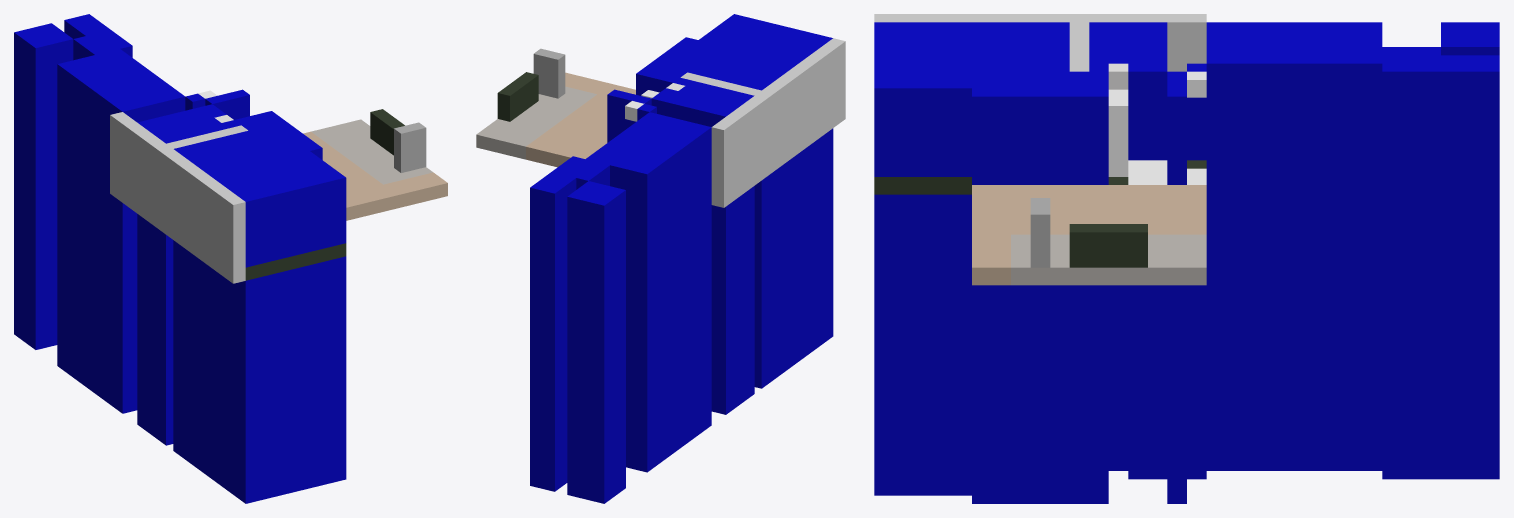
3 views of the same model, side by side, from view 1: azimuth 30°, elevation 25°; view 2: azimuth 150°, elevation 25°; view 3: azimuth 270°, elevation 25° (orthographic). The views are drawn at different scales.
Visible parts, largest first — view 1: imagetostl_mesh14, imagetostl_mesh2, imagetostl_mesh4, imagetostl_mesh1, imagetostl_mesh3, imagetostl_mesh41; view 2: imagetostl_mesh14, imagetostl_mesh2, imagetostl_mesh4, imagetostl_mesh1, imagetostl_mesh3, imagetostl_mesh41; view 3: imagetostl_mesh14, imagetostl_mesh4, imagetostl_mesh1, imagetostl_mesh2, imagetostl_mesh3, imagetostl_mesh10, imagetostl_mesh41.
Boxes of the visible parts, x1,y1,x2,y2 form: imagetostl_mesh14: (14, 14, 346, 503); imagetostl_mesh2: (110, 112, 247, 283); imagetostl_mesh4: (303, 131, 447, 220); imagetostl_mesh1: (311, 119, 432, 184); imagetostl_mesh3: (245, 109, 404, 280); imagetostl_mesh41: (394, 122, 426, 172); imagetostl_mesh14: (530, 14, 833, 503); imagetostl_mesh2: (680, 38, 845, 207); imagetostl_mesh4: (526, 72, 635, 167); imagetostl_mesh1: (476, 86, 596, 159); imagetostl_mesh3: (497, 72, 538, 121); imagetostl_mesh41: (533, 48, 565, 98); imagetostl_mesh14: (874, 22, 1499, 503); imagetostl_mesh4: (972, 185, 1206, 285); imagetostl_mesh1: (1011, 234, 1206, 285); imagetostl_mesh2: (874, 14, 1206, 71); imagetostl_mesh3: (874, 160, 1206, 267); imagetostl_mesh10: (1108, 89, 1206, 184); imagetostl_mesh41: (1030, 198, 1050, 267).
Bounding box in the file's own units: 427 × 491 × 684.
